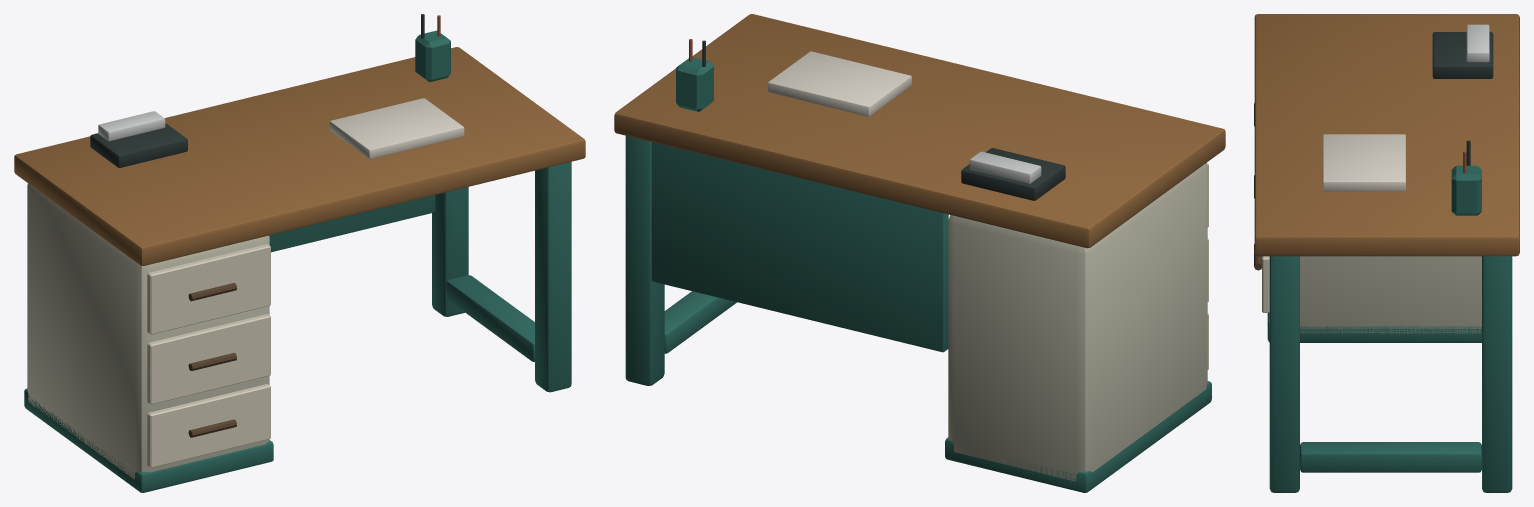
The model's file is desk.glb.
The picture shows the model from 3 angles, left to right: view 1: azimuth 30°, elevation 25°; view 2: azimuth 150°, elevation 25°; view 3: azimuth 270°, elevation 25°; orthographic projection. The views are drawn at different scales.
Parts seen in each view (by area): view 1: desk; view 2: desk; view 3: desk.
Part boxes in pixels (left/top/right/bottom): desk: left=14, top=14, right=585, bottom=492; desk: left=614, top=14, right=1225, bottom=492; desk: left=1254, top=14, right=1519, bottom=492.
Bounding box in the file's own units: 1.4 × 0.95 × 0.701.
